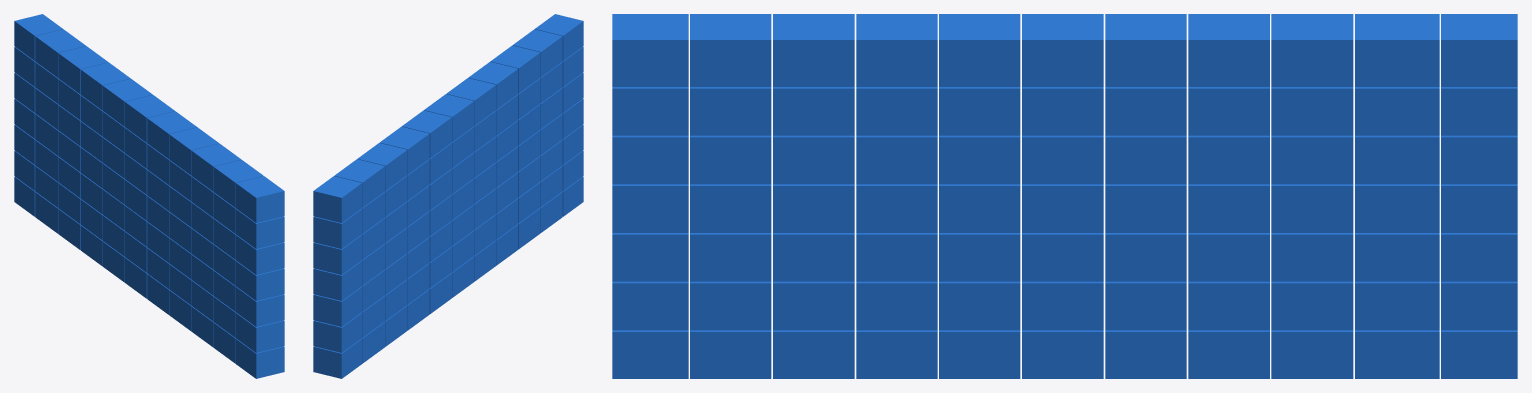
File: ravan zid.fbx
3 renders of one model, left to right at view 1: azimuth 30°, elevation 25°; view 2: azimuth 150°, elevation 25°; view 3: azimuth 270°, elevation 25°, orthographic. The views are drawn at different scales.
Parts seen in each view (by area): view 1: Wall.158, Wall.226, Wall.215, Wall.204, Wall.182, Wall.193, Wall.170, Wall.168, Wall.165, Wall.161, Wall.166, Wall.167 (+65 smaller); view 2: Wall.159, Wall.227, Wall.216, Wall.205, Wall.183, Wall.194, Wall.171, Wall.168, Wall.167, Wall.165, Wall.161, Wall.162 (+65 smaller); view 3: Wall.168, Wall.167, Wall.165, Wall.160, Wall.161, Wall.162, Wall.163, Wall.164, Wall.166, Wall.158, Wall.159, Wall.191 (+65 smaller).
Boxes of the visible parts, x1=… form: Wall.158: x1=235, y1=176, x2=284, y2=222; Wall.226: x1=235, y1=338, x2=284, y2=378; Wall.215: x1=235, y1=312, x2=284, y2=352; Wall.204: x1=235, y1=287, x2=284, y2=326; Wall.182: x1=235, y1=235, x2=284, y2=274; Wall.193: x1=235, y1=261, x2=284, y2=300; Wall.170: x1=235, y1=209, x2=284, y2=248; Wall.168: x1=35, y1=29, x2=85, y2=77; Wall.165: x1=125, y1=95, x2=174, y2=142; Wall.161: x1=191, y1=143, x2=241, y2=191; Wall.166: x1=80, y1=62, x2=130, y2=110; Wall.167: x1=58, y1=46, x2=108, y2=94; Wall.159: x1=313, y1=176, x2=362, y2=222; Wall.227: x1=313, y1=338, x2=362, y2=378; Wall.216: x1=313, y1=312, x2=362, y2=352; Wall.205: x1=313, y1=286, x2=362, y2=326; Wall.183: x1=313, y1=234, x2=362, y2=274; Wall.194: x1=313, y1=260, x2=362, y2=300; Wall.171: x1=313, y1=209, x2=362, y2=248; Wall.168: x1=334, y1=159, x2=385, y2=207; Wall.167: x1=357, y1=143, x2=407, y2=190; Wall.165: x1=424, y1=94, x2=474, y2=141; Wall.161: x1=490, y1=45, x2=540, y2=93; Wall.162: x1=468, y1=62, x2=518, y2=109; Wall.168: x1=1355, y1=14, x2=1439, y2=86; Wall.167: x1=1271, y1=14, x2=1353, y2=86; Wall.165: x1=1022, y1=14, x2=1103, y2=86; Wall.160: x1=690, y1=14, x2=771, y2=86; Wall.161: x1=773, y1=14, x2=854, y2=86; Wall.162: x1=856, y1=14, x2=937, y2=86; Wall.163: x1=939, y1=14, x2=1020, y2=86; Wall.164: x1=1105, y1=14, x2=1186, y2=86; Wall.166: x1=1188, y1=14, x2=1269, y2=86; Wall.158: x1=612, y1=14, x2=688, y2=86; Wall.159: x1=1441, y1=14, x2=1517, y2=86; Wall.191: x1=1355, y1=135, x2=1439, y2=184.
Bounding box in the file's own units: 197 × 1196 × 2896.
